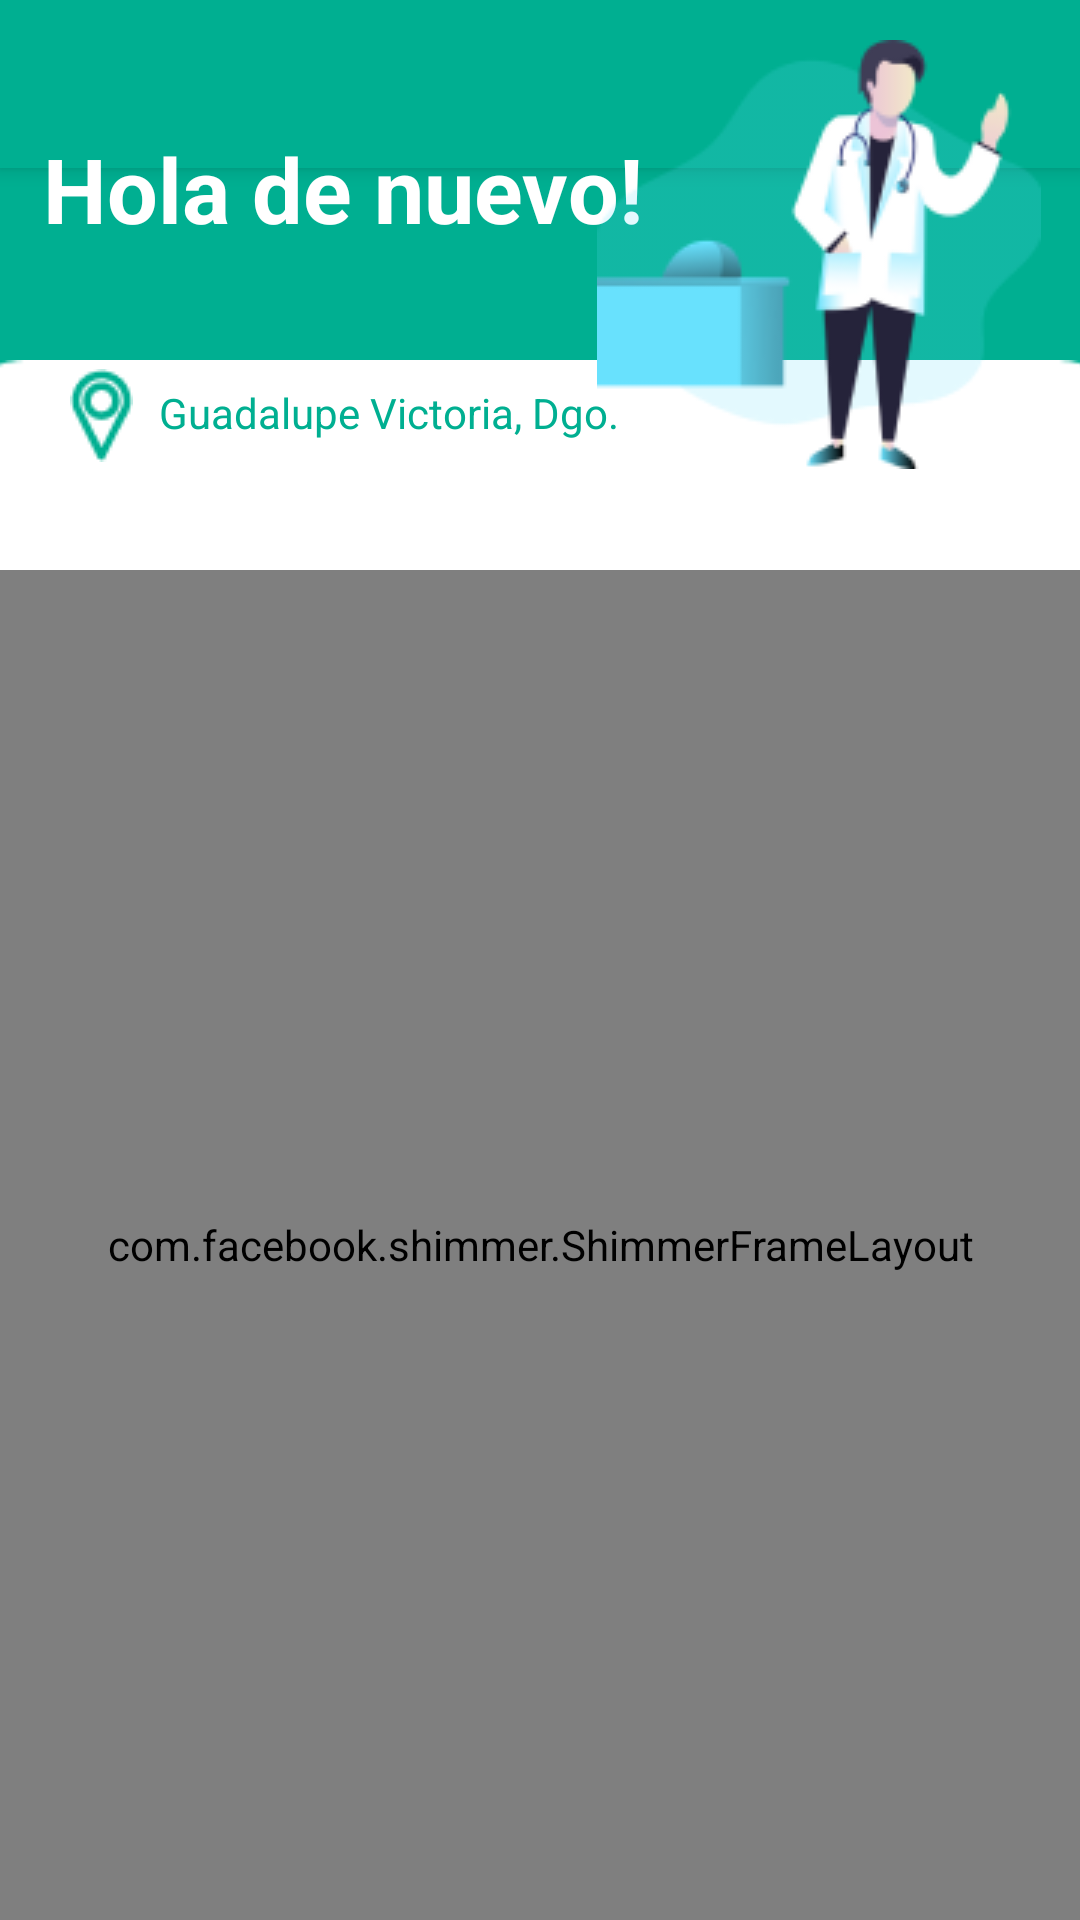

Point at icon controls on the screen. Image size 1080*1920, points as [x,y].
emoji location: [101,415]
